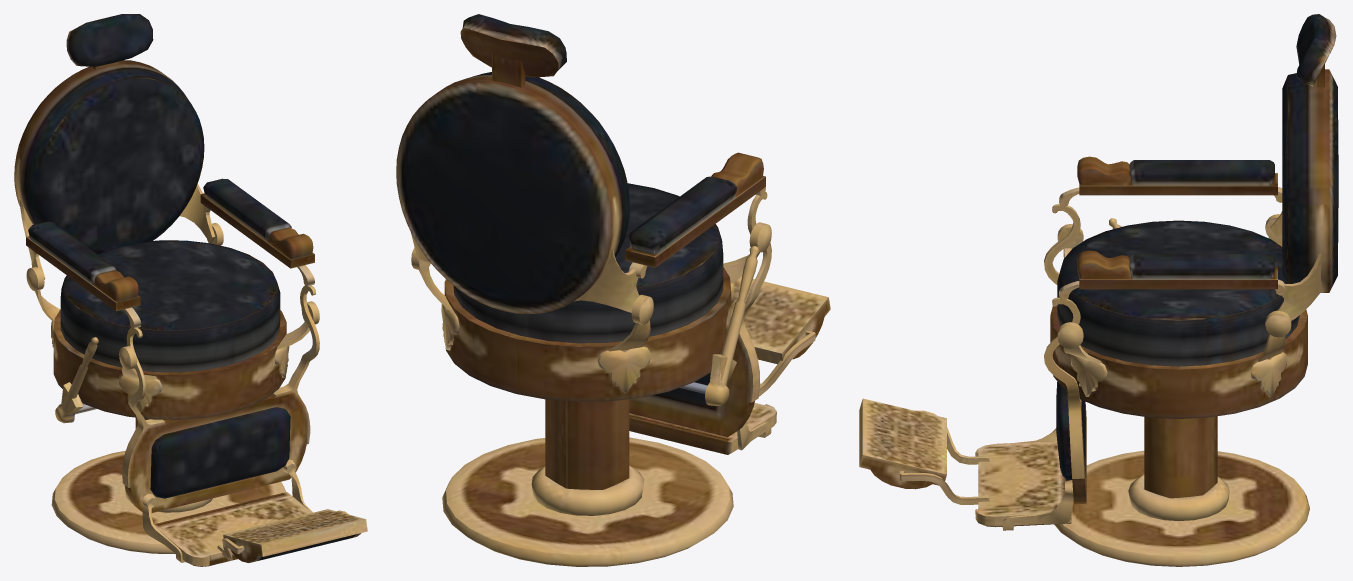
The model's file is barber-chair.lite.79eb7e59.glb.
3 views of the same model, side by side, from view 1: azimuth 30°, elevation 25°; view 2: azimuth 150°, elevation 25°; view 3: azimuth 270°, elevation 25° (orthographic). The views are drawn at different scales.
Parts seen in each view (by area): view 1: model; view 2: model; view 3: model.
Boxes of the visible parts, x1,y1,x2,y2 form: model: (14, 14, 367, 566); model: (396, 14, 830, 566); model: (859, 14, 1338, 566).
Size of the model in its own units: 0.7565 by 1.49 by 1.33.
1 material, 1 textured.
